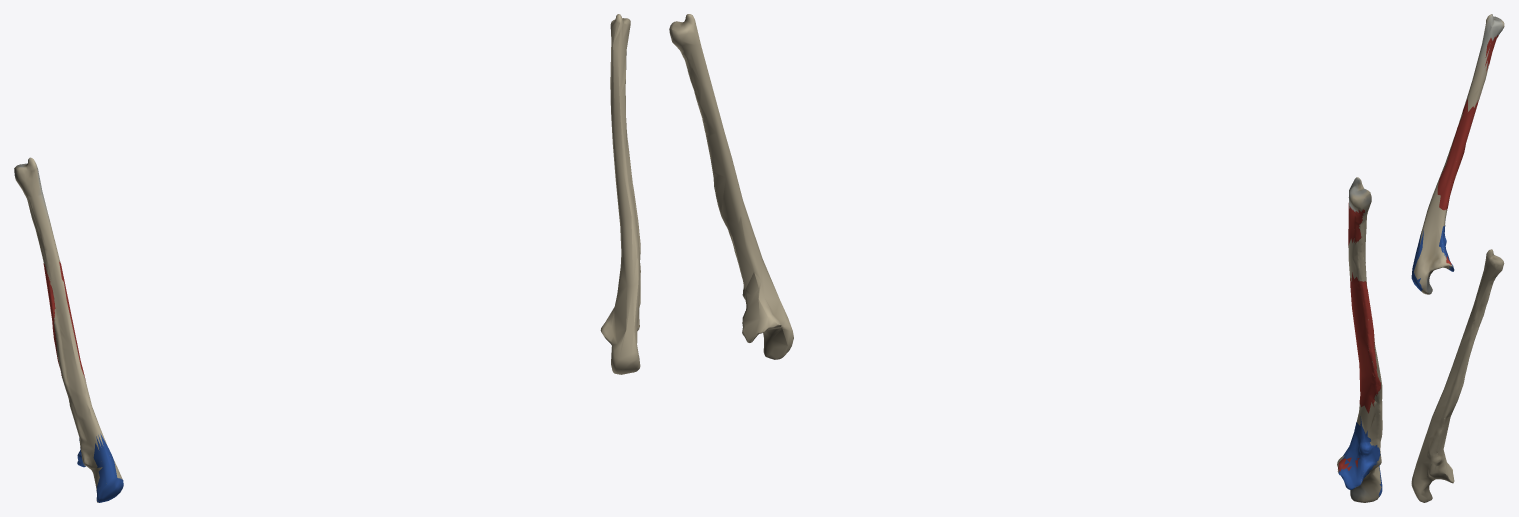
Rendered from ulna.glb.
3 renders of one model, left to right at view 1: azimuth 30°, elevation 25°; view 2: azimuth 150°, elevation 25°; view 3: azimuth 270°, elevation 25°, orthographic. The views are drawn at different scales.
Visible parts, largest first — view 1: FJ3286, FJ3391, insertio__olecranon__FJ1485; view 2: FJ3286, FJ3391, origo__corpus__FJ1497, insertio__processus-coronoideus-tuberositas__FJ1486; view 3: FJ3286, FJ3391, origo__corpus__FJ1497, origo__corpus__FJ1518, ulna__caput-styloideus, ulna__olecranon, insertio__processus-coronoideus-tuberositas__FJ1486, origo__caput-styloideus__FJ1503, insertio__olecranon__FJ1485, ulna__processus-coronoideus-tuberositas.
Boxes of the visible parts, x1,y1,x2,y2 form: FJ3286: [600, 14, 640, 374]; FJ3391: [14, 157, 107, 500]; insertio__olecranon__FJ1485: [93, 433, 117, 501]; FJ3286: [669, 14, 793, 359]; FJ3391: [1348, 177, 1382, 502]; origo__corpus__FJ1497: [1350, 272, 1380, 413]; insertio__processus-coronoideus-tuberositas__FJ1486: [1338, 416, 1380, 489]; FJ3286: [1411, 249, 1504, 502]; FJ3391: [1419, 14, 1504, 294]; origo__corpus__FJ1497: [1442, 98, 1479, 210]; origo__corpus__FJ1518: [1437, 99, 1467, 209]; ulna__caput-styloideus: [1478, 14, 1503, 66]; ulna__olecranon: [1414, 240, 1429, 294]; insertio__processus-coronoideus-tuberositas__FJ1486: [1439, 220, 1454, 271]; origo__caput-styloideus__FJ1503: [1485, 35, 1498, 71]; insertio__olecranon__FJ1485: [1412, 230, 1423, 271]; ulna__processus-coronoideus-tuberositas: [1435, 220, 1454, 270].
Size of the model in its own units: 494 by 247 by 78.94.
